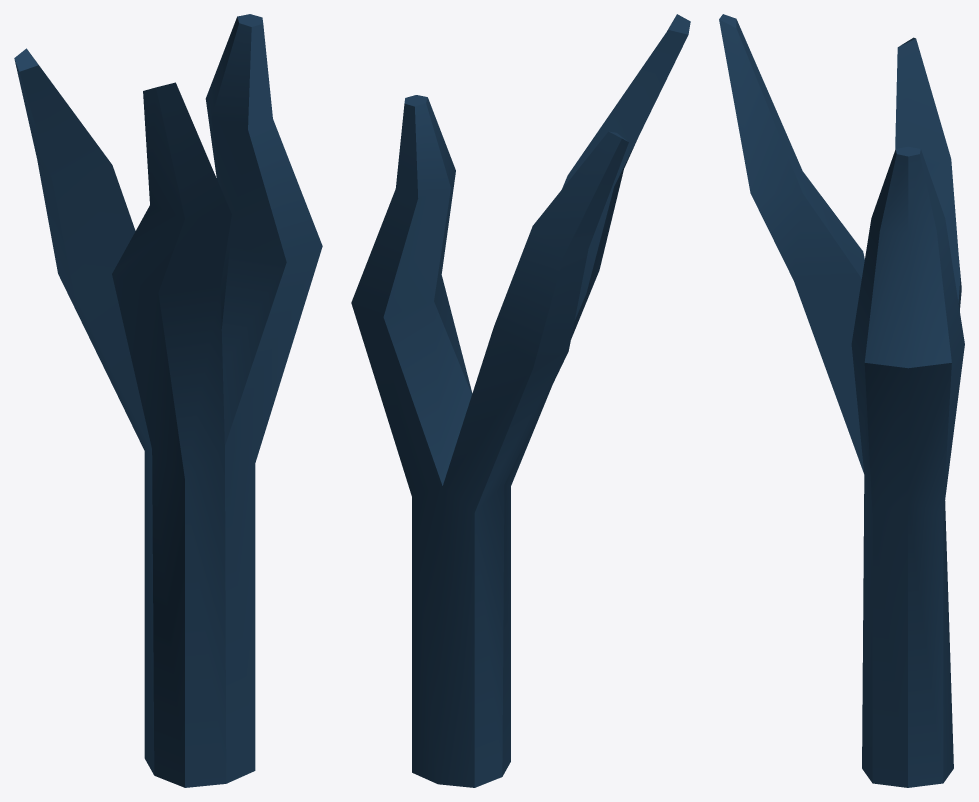
File: Arbre_sans_feuilles.fbx
3 renders of one model, left to right at view 1: azimuth 30°, elevation 25°; view 2: azimuth 150°, elevation 25°; view 3: azimuth 270°, elevation 25°, orthographic. The views are drawn at different scales.
Visible parts, largest first — view 1: Cube.001; view 2: Cube.001; view 3: Cube.001.
Part boxes in pixels (bbox=[...]): Cube.001: bbox=[14, 14, 322, 787]; Cube.001: bbox=[351, 14, 690, 787]; Cube.001: bbox=[719, 14, 964, 787].
Size of the model in its own units: 494 by 1271 by 409.
